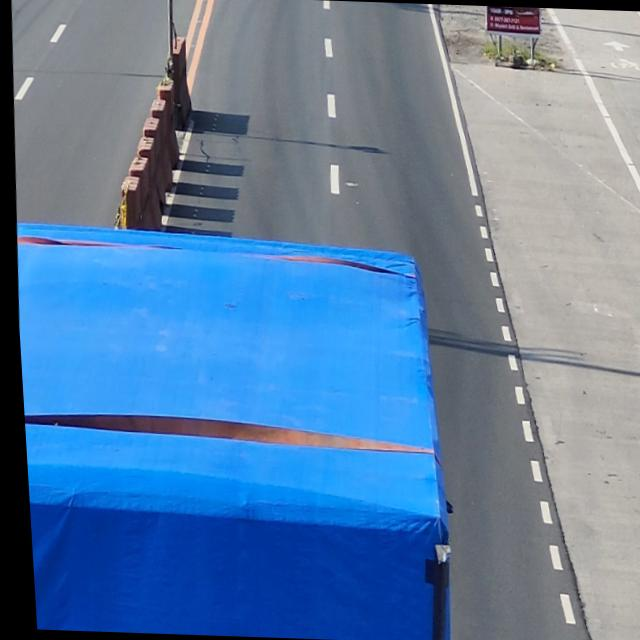Truck: (10, 221, 459, 640)
